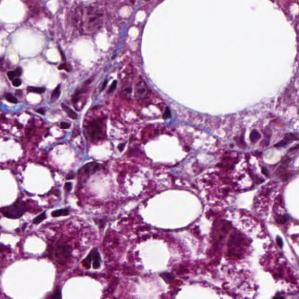inflammation: (4, 63, 45, 103), (51, 82, 79, 131), (34, 202, 72, 228), (81, 245, 105, 276), (99, 76, 120, 98), (249, 127, 265, 148), (161, 103, 175, 124)
